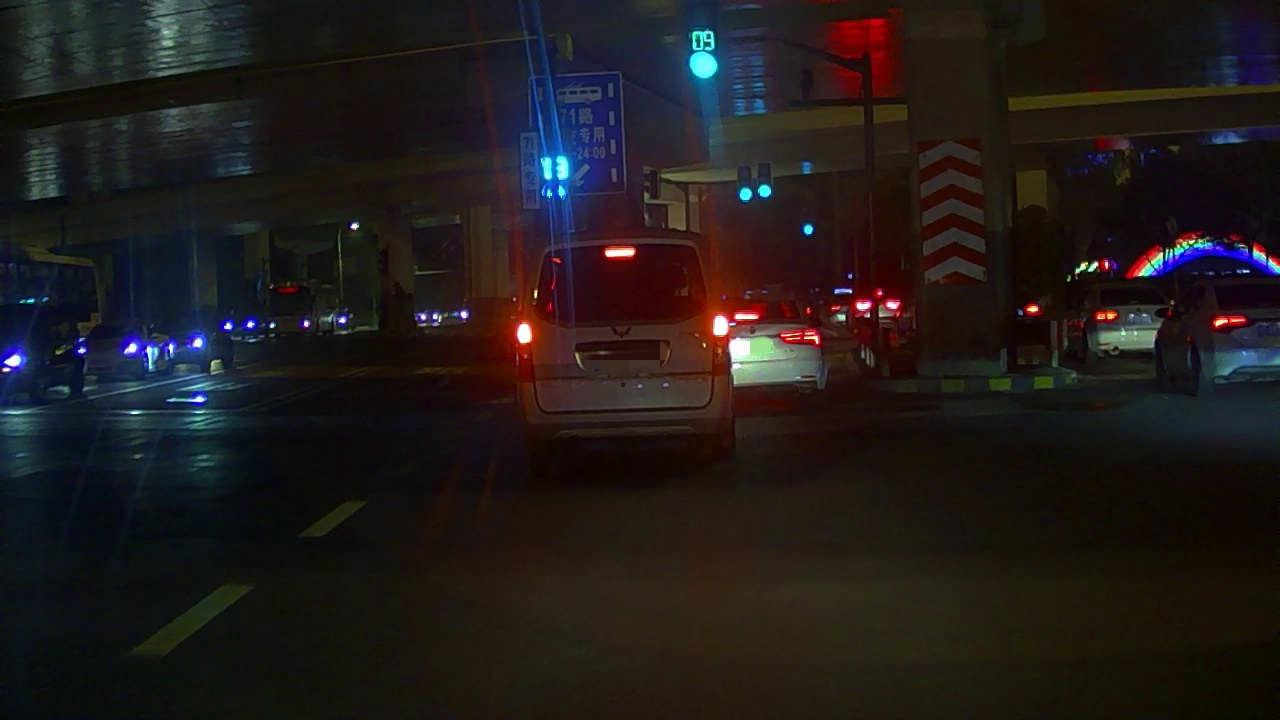traffic_light: (689, 30, 716, 76), (542, 159, 570, 199)
